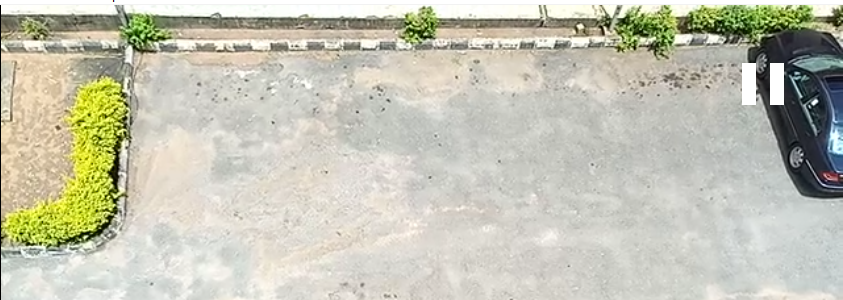one: (109, 18, 259, 225)
three: (486, 17, 632, 219)
two: (312, 17, 438, 219)
